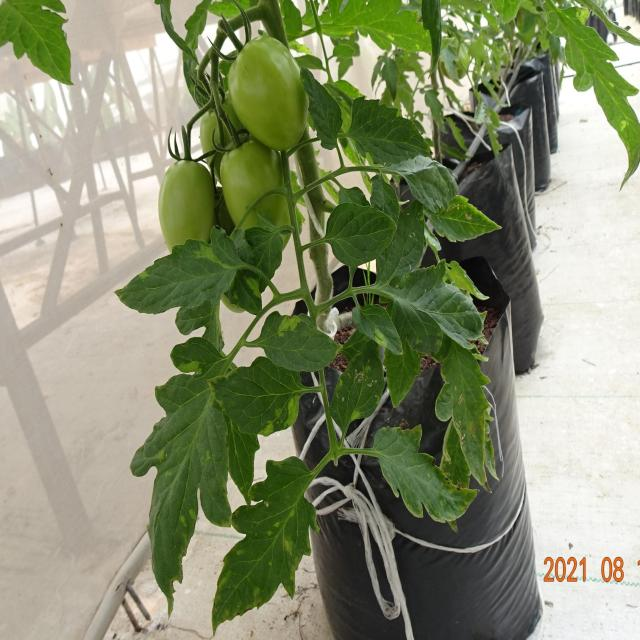T_F_R: (228, 34, 307, 151), (158, 161, 217, 254), (221, 142, 278, 226)
T_L_H: (1, 1, 72, 86)
T_L_R: (132, 375, 232, 611), (214, 458, 317, 631), (120, 230, 250, 314), (372, 426, 477, 523), (436, 341, 490, 487), (250, 313, 340, 372)
